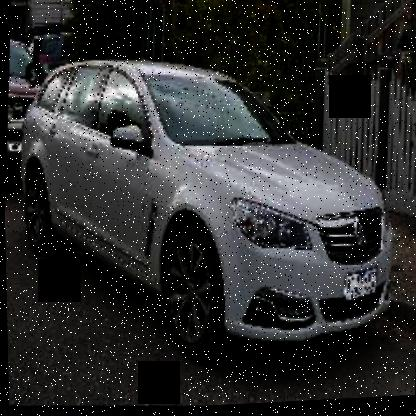not_emergency: (0, 23, 415, 382)
